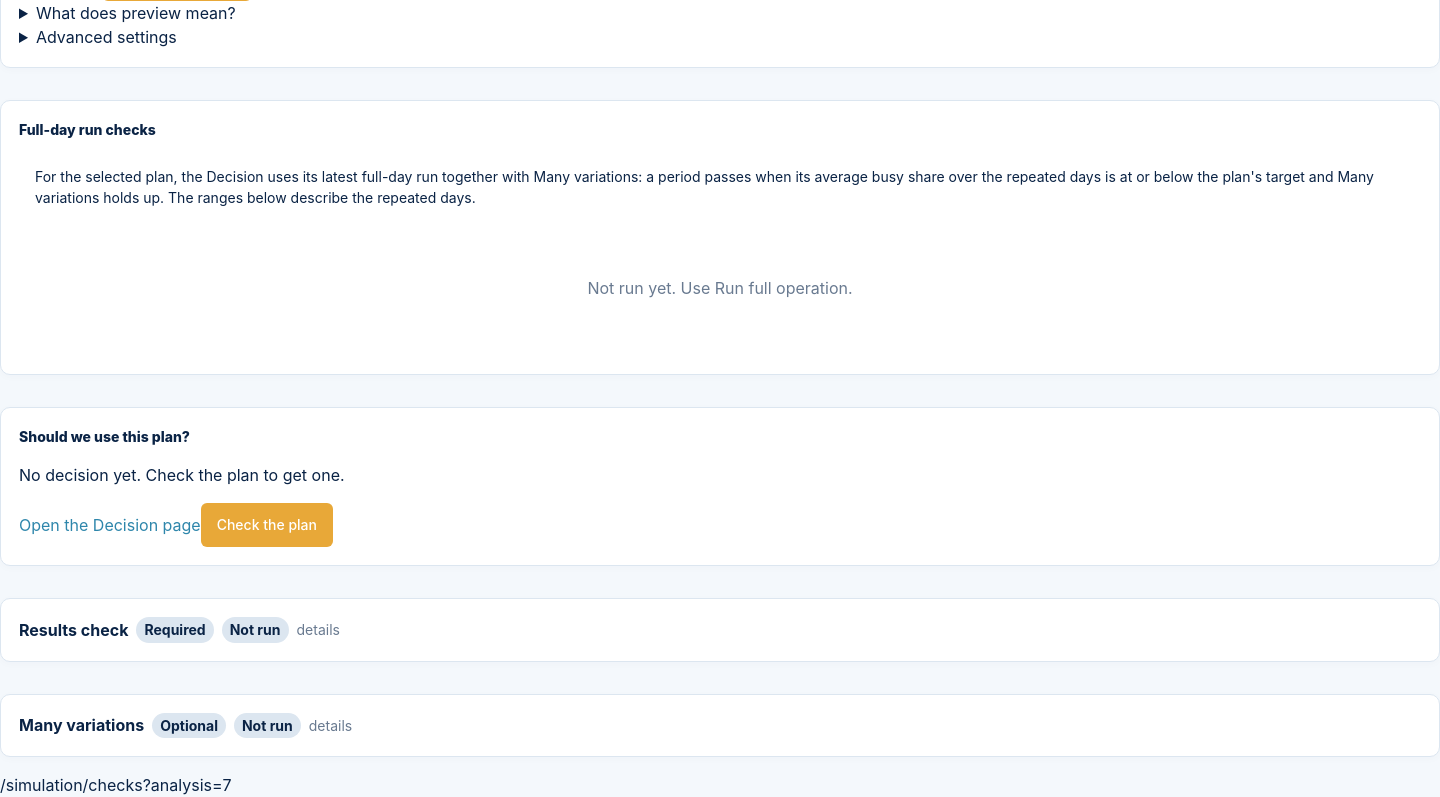
Test case: shared selection/checks and legacy renderer contracts › says the saving cannot be calculated when today cannot keep up in a period
The width and height of the screenshot is (1440, 797).
(page scrolled)
Click the button "Check the plan" at (267, 525), box 201,503 -> 333,547
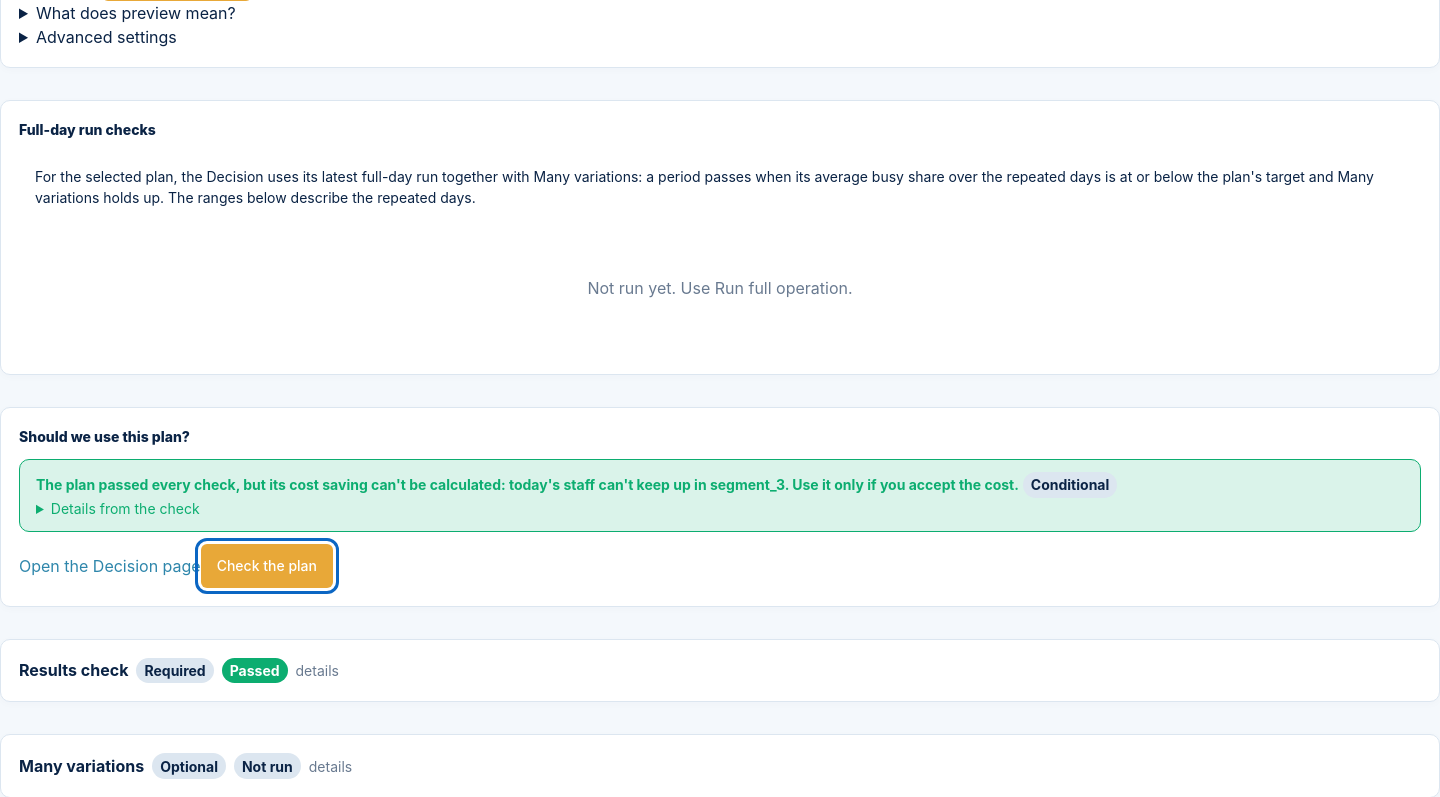
Expected: the text with test id "decision-plain" does not show "costs more than today", 36,476 -> 1019,493
Now the text with test id "decision-plain" shows "The plan passed every check, but its cost saving can't be calculated: today's staff can't keep up in segment_3. Use it only if you accept the cost.", box 36,476 -> 1019,493
